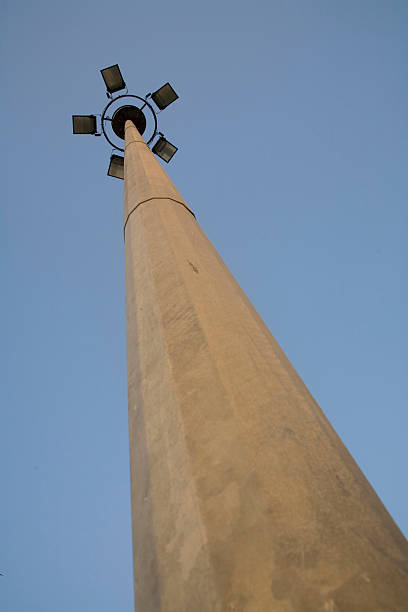light_pole: (119, 125, 408, 612)
